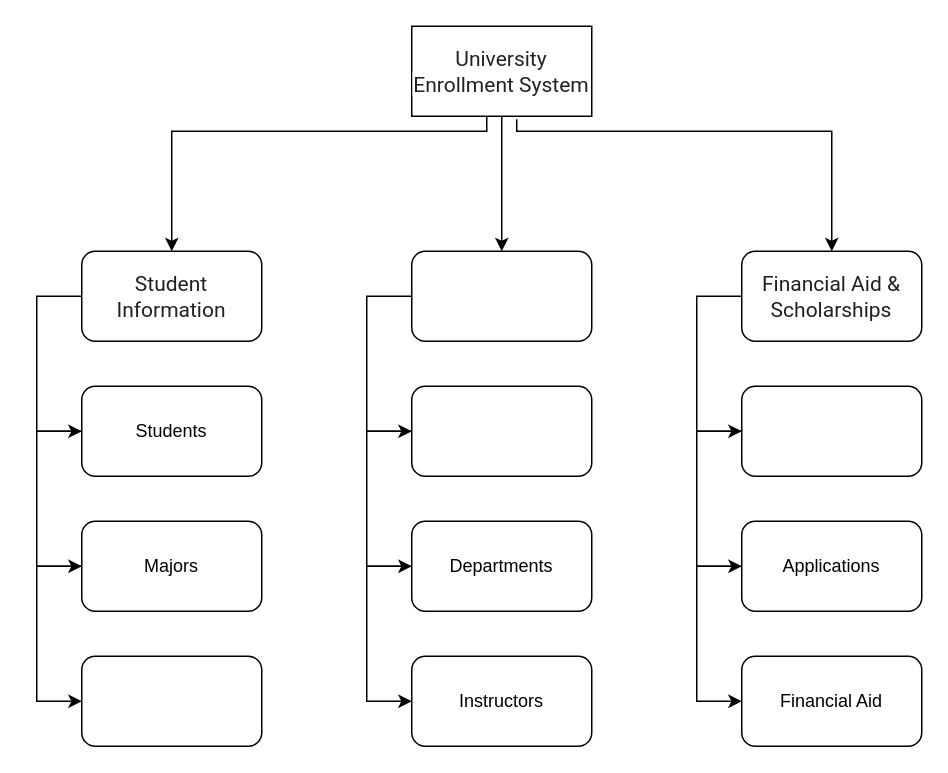
This 948x773 diagram has some shape labels left out. The shapes that lost their labels are listed below. From the top down, each one's box as (x1, y1, x2, y2) in pixels, then its label:
(410, 250, 592, 341): Course Management
(410, 385, 592, 476): Courses
(740, 385, 922, 476): Scholarships
(80, 655, 262, 746): Enrollment
